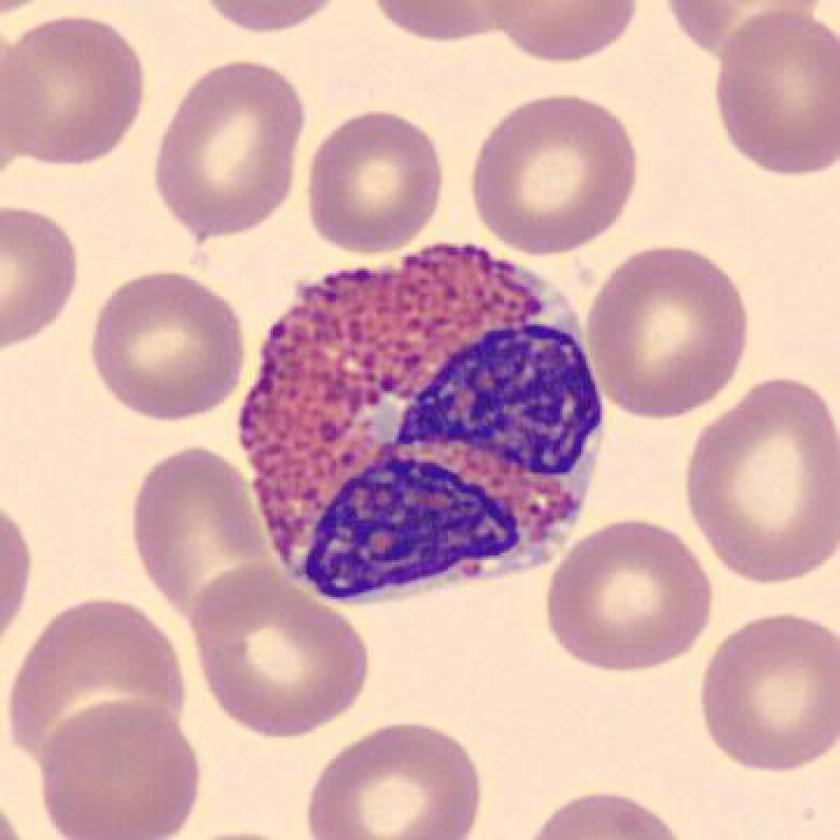eosinophil: (223, 235, 617, 605)
